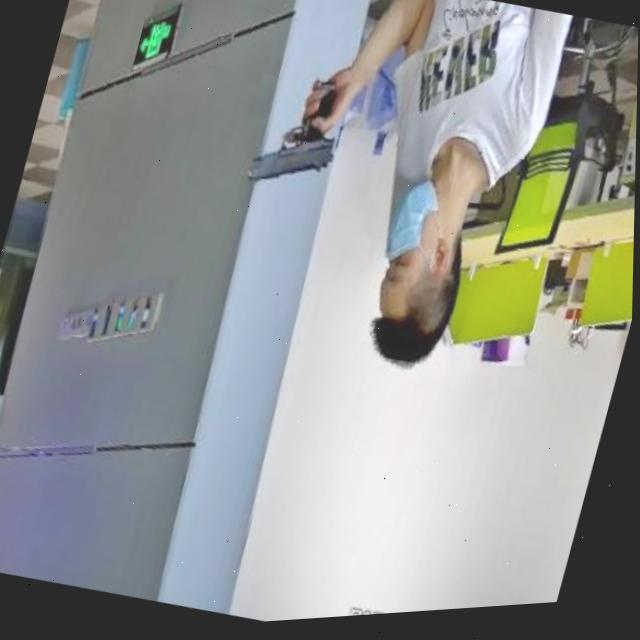gun: (231, 49, 370, 230)
